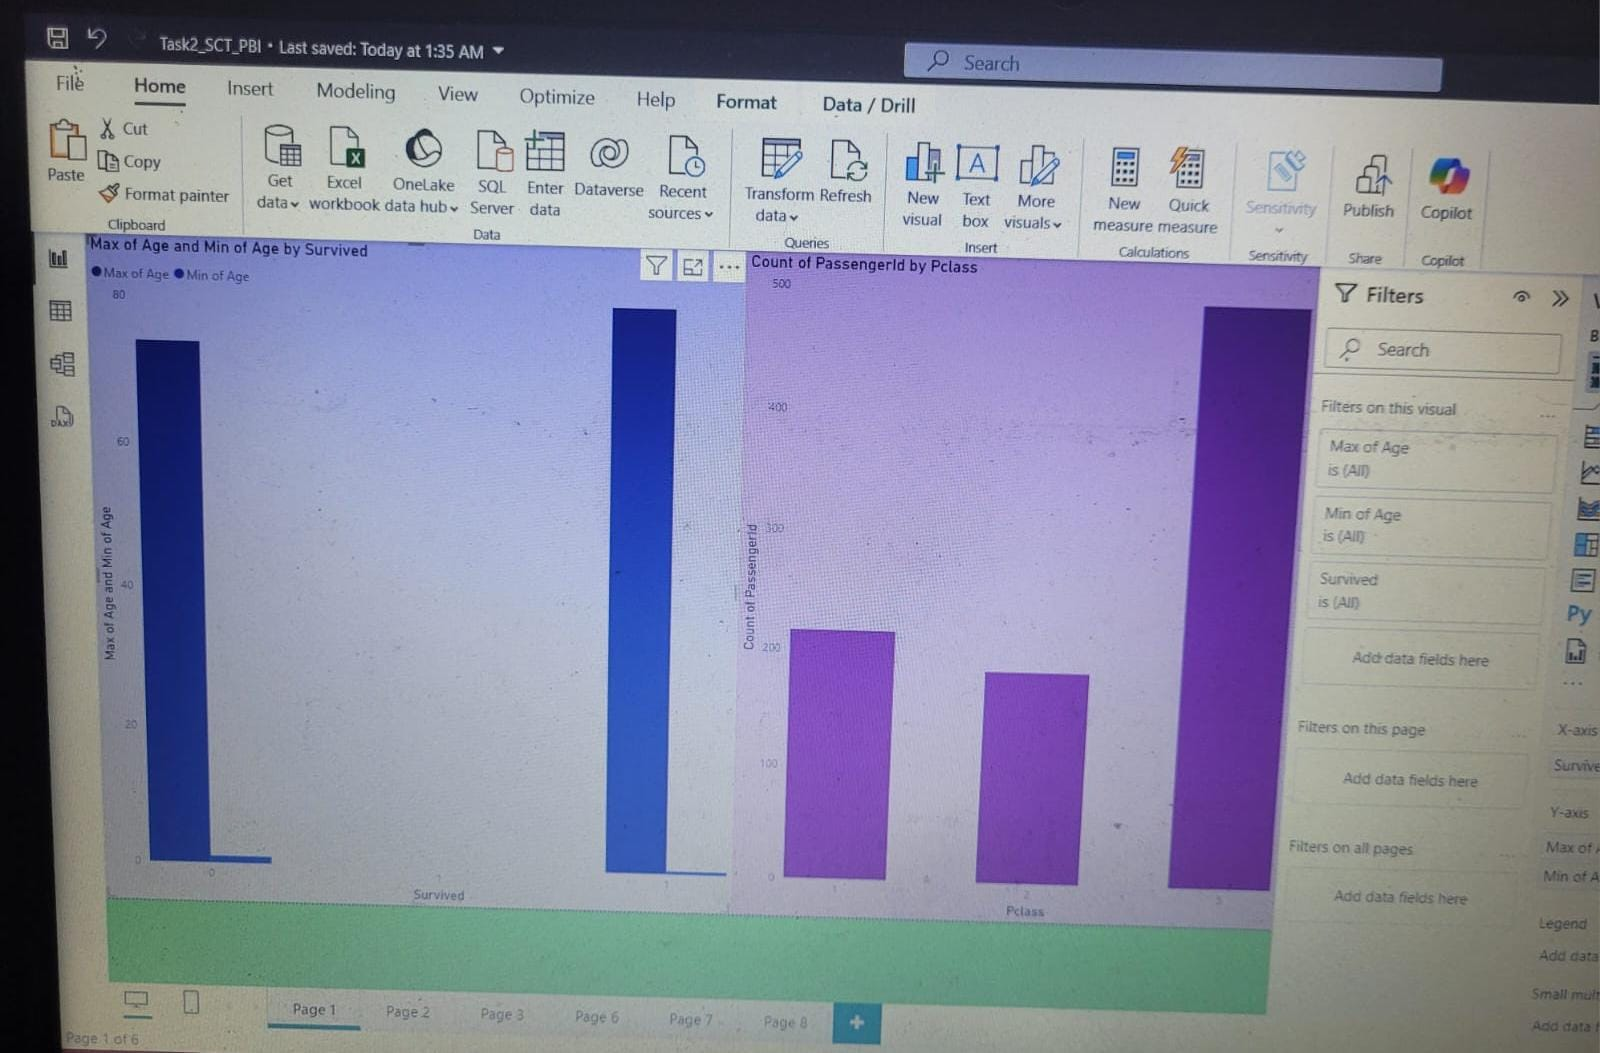

Layout of this report page (visuals, bound fields, positions):
{"tool":"powerbi","page":{"name":"Page 1","canvas":[1280,720],"ordinal":0},"visuals":[{"type":"clusteredColumnChart","fields":{"Category":["train.Survived"],"Y":["Max(train.Age)","Min(train.Age)1"]},"box":[0,0,686.1,720.4],"z":0},{"type":"clusteredColumnChart","fields":{"Category":["train.Pclass"],"Y":["CountNonNull(train.PassengerId)"]},"box":[686.1,0,594.2,720.4],"z":1000}]}

Visuals, with their boxes on the page's 1280x720 design canvas (x1, y1, x2, y2). These are canvas units, not pixel positions in the 1600x1053 screenshot, which may show the page scaled, cropped or inside an application window:
clusteredColumnChart - train.Survived x Max(train.Age): detection(0, 0, 686, 720)
clusteredColumnChart - train.Pclass x CountNonNull(train.PassengerId): detection(686, 0, 1280, 720)
